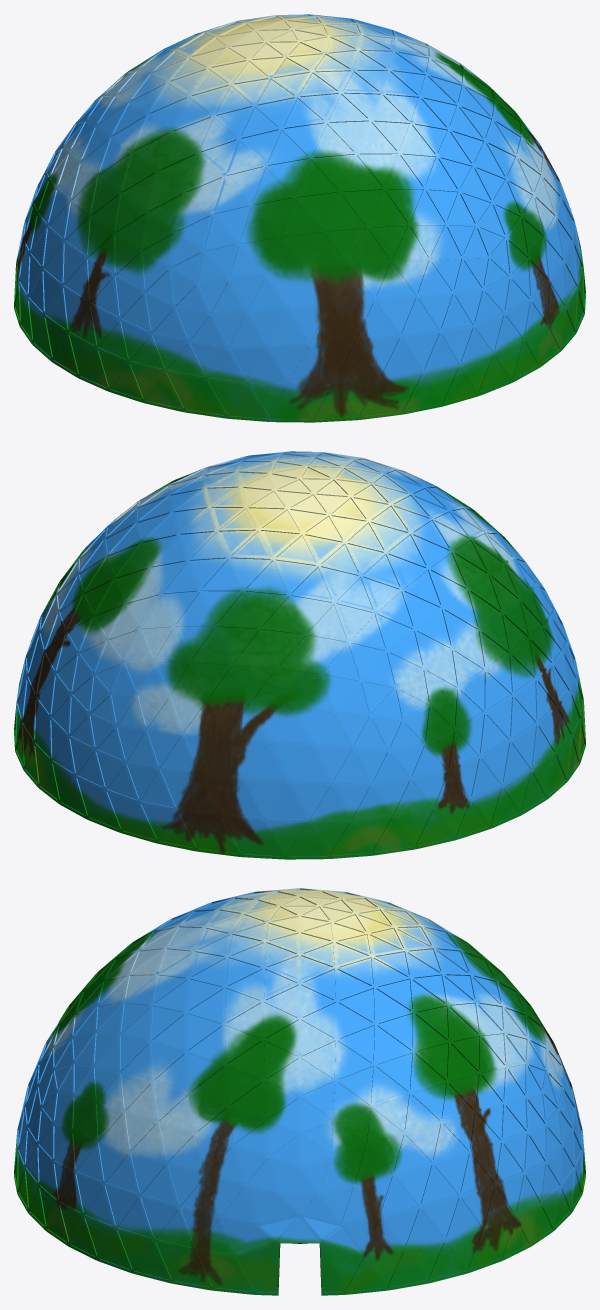
Rendered from dome_final.fbx.
3 views of the same model, one above another, from view 1: azimuth 30°, elevation 25°; view 2: azimuth 150°, elevation 25°; view 3: azimuth 270°, elevation 25° (orthographic).
Parts seen in each view (by area): view 1: Icosphere; view 2: Icosphere; view 3: Icosphere.
Boxes of the visible parts, x1,y1,x2,y2 form: Icosphere: [14, 14, 585, 422]; Icosphere: [14, 451, 585, 859]; Icosphere: [14, 888, 585, 1295].
Bounding box in the file's own units: 1992 × 1004 × 1998.
Materials: 1 (1 with a texture image).
